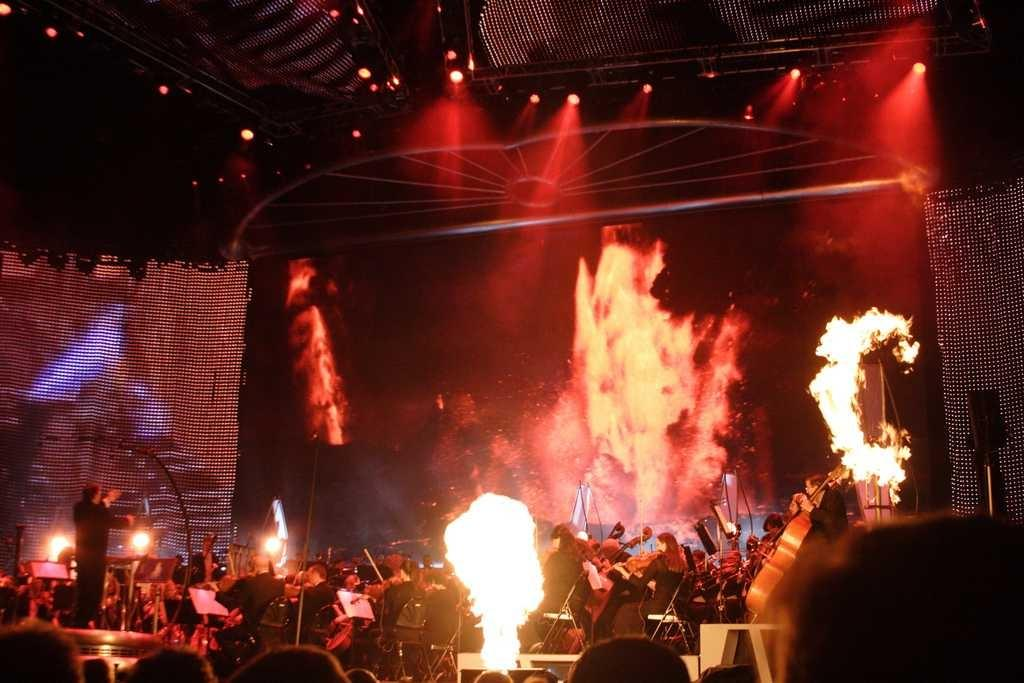fire: (593, 318, 693, 472), (465, 508, 538, 608), (827, 328, 860, 437)
